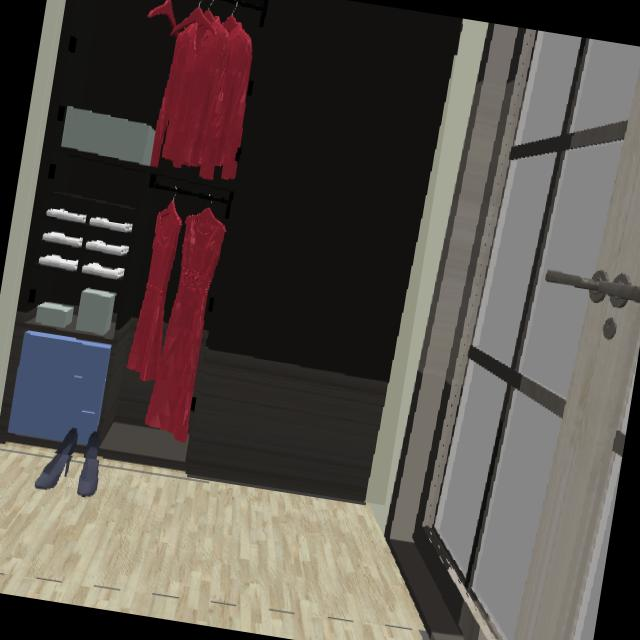wardrobe: (1, 0, 461, 502)
